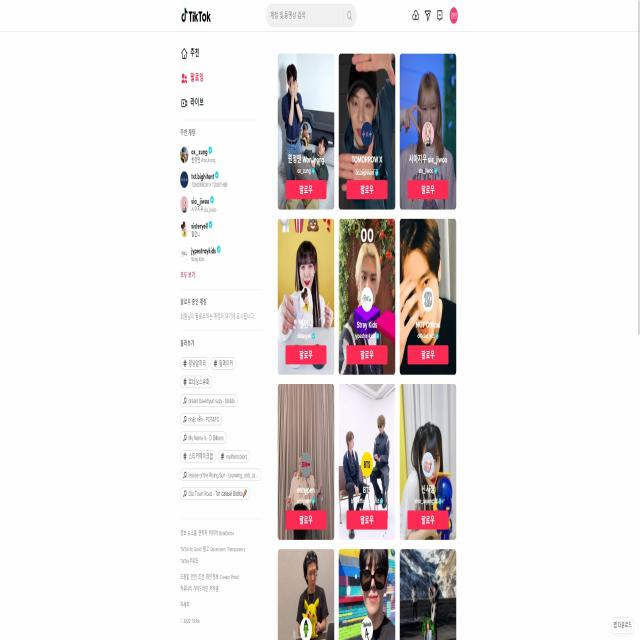menu-bar: (409, 5, 461, 28)
menu-panel: (177, 38, 267, 513)
search: (264, 1, 359, 27)
